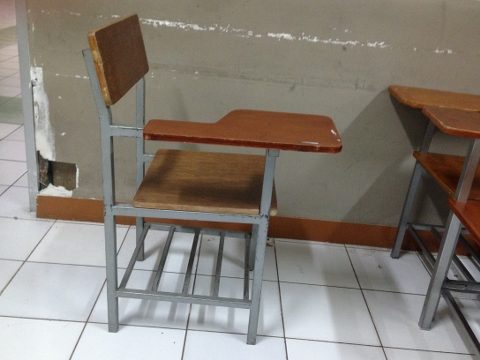kursi: (82, 13, 343, 344)
